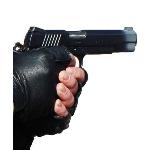Pistol: (22, 26, 138, 70)
